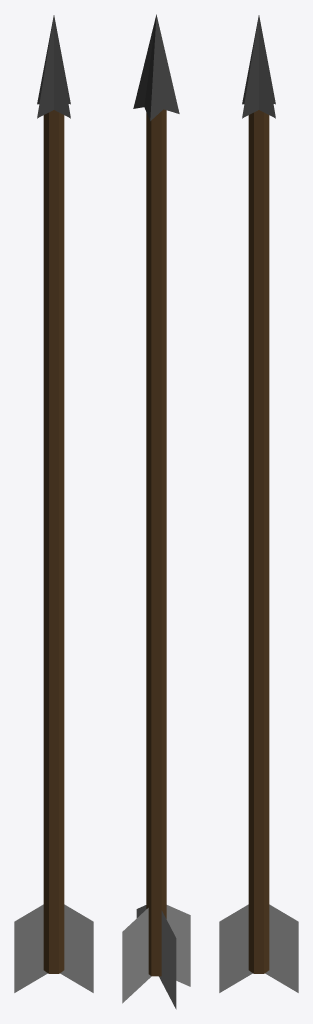
Rendered from Arrow.fbx.
3 views of the same model, side by side, from view 1: azimuth 90°, elevation 25°; view 2: azimuth 210°, elevation 25°; view 3: azimuth 270°, elevation 25° (orthographic).
Parts seen in each view (by area): view 1: Arrow; view 2: Arrow; view 3: Arrow.
Part boxes in pixels (x1,y1,x2,y2): Arrow: (14,15,93,992); Arrow: (122,14,190,1009); Arrow: (219,15,298,992).
Bounding box in the file's own units: 12.96 × 177 × 12.96.
